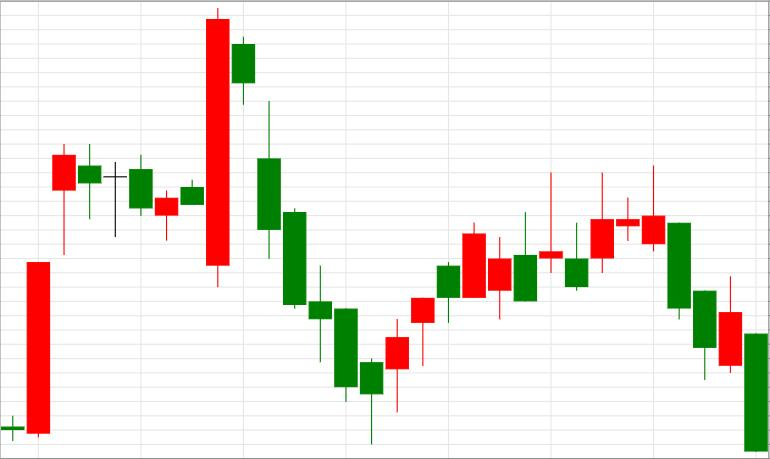hammer_rise: (232, 36, 383, 443)
